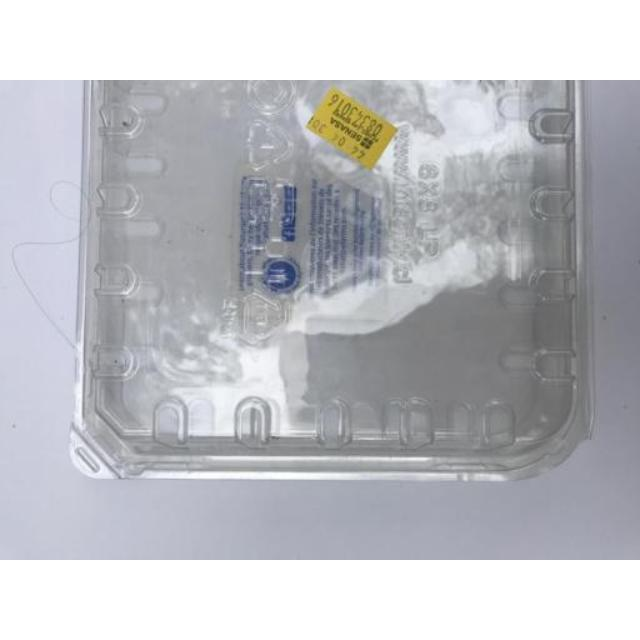plastic: (70, 80, 593, 480)
